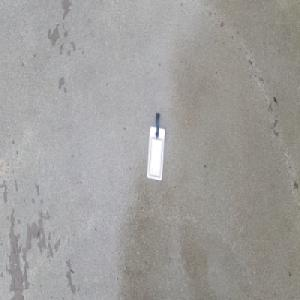LuggageTag: (146, 112, 167, 182)
